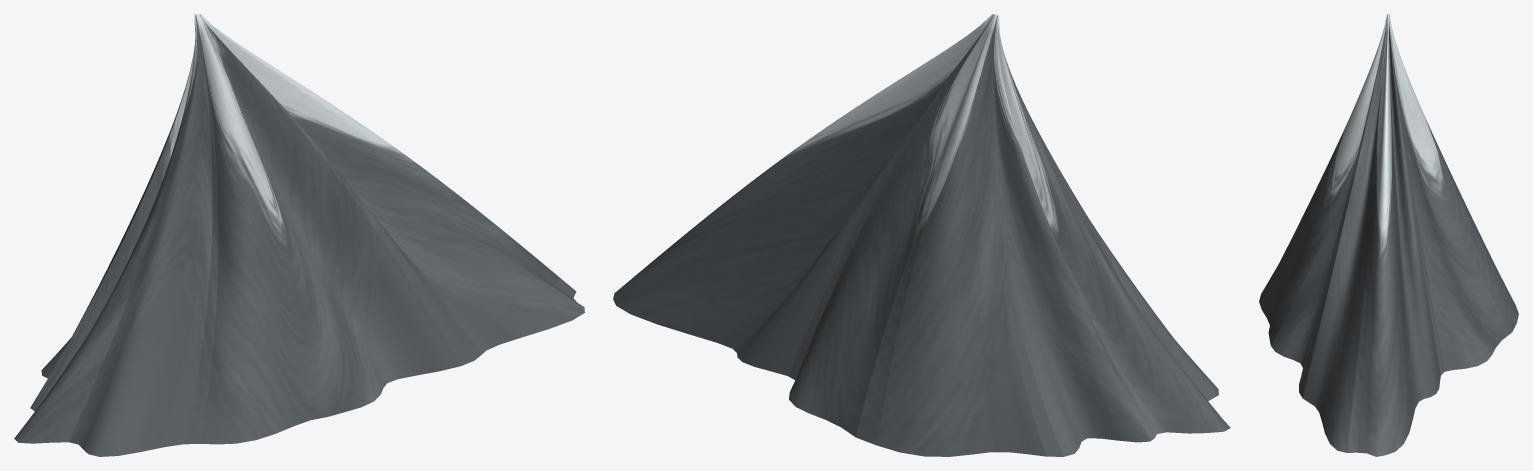
File: matterhorn_peak.glb
The picture shows the model from 3 angles, left to right: view 1: azimuth 30°, elevation 25°; view 2: azimuth 150°, elevation 25°; view 3: azimuth 270°, elevation 25°; orthographic projection. The views are drawn at different scales.
Visible parts, largest first — view 1: matterhorn_peak; view 2: matterhorn_peak; view 3: matterhorn_peak.
Part boxes in pixels (x1=…): matterhorn_peak: x1=14, y1=14, x2=584, y2=456; matterhorn_peak: x1=613, y1=14, x2=1230, y2=456; matterhorn_peak: x1=1259, y1=14, x2=1518, y2=456.
Size of the model in its own units: 58 by 35 by 28.
1 material, 1 textured.
